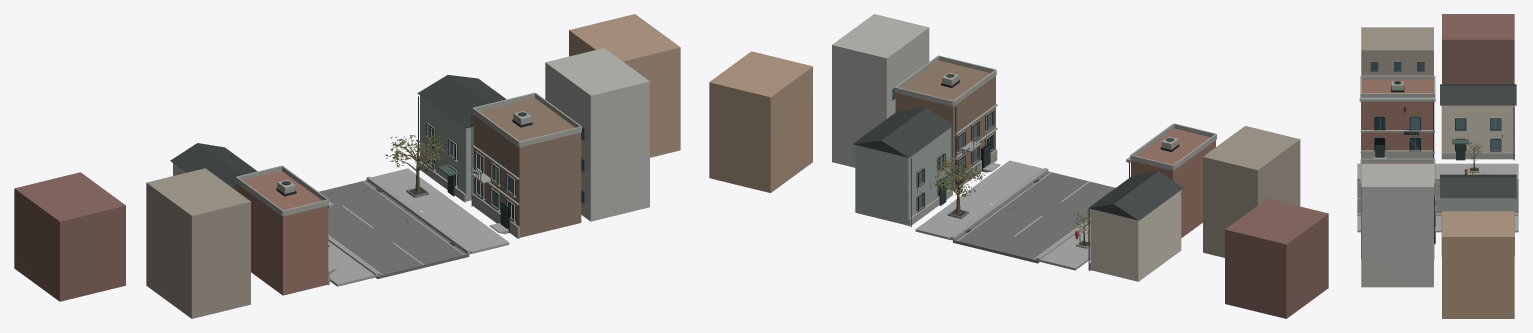
Rendered from city_hd_03.glb.
The picture shows the model from 3 angles, left to right: view 1: azimuth 30°, elevation 25°; view 2: azimuth 150°, elevation 25°; view 3: azimuth 270°, elevation 25°; orthographic projection. The views are drawn at different scales.
Parts seen in each view (by area): view 1: Background city building, Background city building.002, Background city building.001, Masonry apartment volume, Narrow townhouse volume, CITY_PBR_asphalt, Background city building.003, CITY_PBR_pavement, CITY_trim, CITY_roof, Narrow townhouse volume.002, CITY_recess (+5 smaller); view 2: Background city building.003, Background city building.001, Background city building.002, Background city building, CITY_PBR_asphalt, Narrow townhouse volume.002, Narrow townhouse volume.001, CITY_roof, Masonry apartment volume, CITY_PBR_pavement, CITY_trim, Narrow townhouse volume (+6 smaller); view 3: Background city building.002, Background city building.003, Background city building.001, Narrow townhouse volume, CITY_roof, Background city building, Narrow townhouse volume.001, CITY_trim, CITY_PBR_pavement, Narrow townhouse volume.002, CITY_recess, CITY_glass (+8 smaller).
Boxes of the visible parts, left/top/right/bottom form: Background city building: left=146, top=168, right=250, bottom=318; Background city building.002: left=545, top=48, right=649, bottom=221; Background city building.001: left=14, top=172, right=125, bottom=301; Masonry apartment volume: left=473, top=98, right=581, bottom=237; Narrow townhouse volume: left=237, top=171, right=328, bottom=295; CITY_PBR_asphalt: left=319, top=180, right=469, bottom=278; Background city building.003: left=569, top=14, right=680, bottom=157; CITY_PBR_pavement: left=328, top=168, right=509, bottom=286; CITY_trim: left=236, top=92, right=581, bottom=284; CITY_roof: left=170, top=75, right=519, bottom=216; Narrow townhouse volume.002: left=420, top=95, right=473, bottom=201; CITY_recess: left=426, top=123, right=515, bottom=232; Background city building.003: left=709, top=51, right=812, bottom=192; Background city building.001: left=1225, top=198, right=1328, bottom=318; Background city building.002: left=832, top=14, right=929, bottom=167; Background city building: left=1203, top=126, right=1300, bottom=257; CITY_PBR_asphalt: left=953, top=171, right=1115, bottom=263; Narrow townhouse volume.002: left=855, top=127, right=951, bottom=225; Narrow townhouse volume.001: left=1090, top=190, right=1181, bottom=281; CITY_roof: left=853, top=108, right=1183, bottom=220; Masonry apartment volume: left=895, top=60, right=995, bottom=185; CITY_PBR_pavement: left=915, top=160, right=1090, bottom=270; CITY_trim: left=895, top=55, right=1216, bottom=270; Narrow townhouse volume: left=1131, top=128, right=1215, bottom=237; Background city building.002: left=1361, top=164, right=1433, bottom=287; Background city building.003: left=1442, top=211, right=1514, bottom=318; Background city building.001: left=1442, top=14, right=1514, bottom=84; Narrow townhouse volume: left=1361, top=79, right=1434, bottom=150; CITY_roof: left=1440, top=84, right=1516, bottom=198; Background city building: left=1361, top=27, right=1433, bottom=75; Narrow townhouse volume.001: left=1441, top=105, right=1514, bottom=152; CITY_trim: left=1359, top=75, right=1514, bottom=187; CITY_PBR_pavement: left=1357, top=163, right=1518, bottom=232; Narrow townhouse volume.002: left=1441, top=198, right=1514, bottom=256; CITY_recess: left=1374, top=116, right=1501, bottom=244; CITY_glass: left=1410, top=117, right=1500, bottom=242.
Size of the model in its own units: 56.65 by 11.26 by 16.
